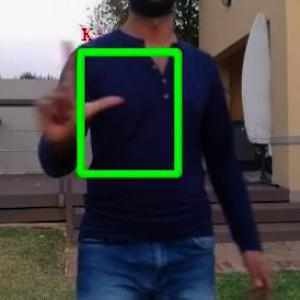land_hand: (29, 31, 132, 161)
